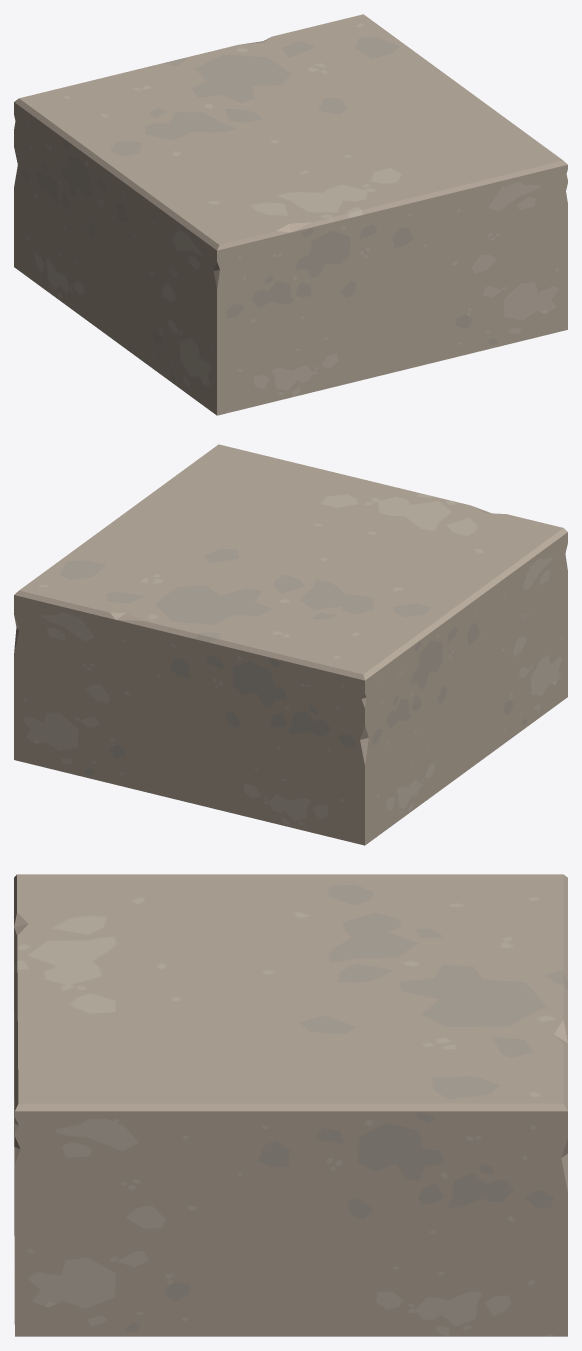
The model's file is SM_Bld_Village_House_Plinth_01.glb.
The picture shows the model from 3 angles, top to bottom: view 1: azimuth 30°, elevation 25°; view 2: azimuth 150°, elevation 25°; view 3: azimuth 270°, elevation 25°; orthographic projection. The views are drawn at different scales.
Visible parts, largest first — view 1: SM_Bld_Village_House_Plinth_01; view 2: SM_Bld_Village_House_Plinth_01; view 3: SM_Bld_Village_House_Plinth_01.
Boxes of the visible parts, x1,y1,x2,y2 form: SM_Bld_Village_House_Plinth_01: (14,14,567,415); SM_Bld_Village_House_Plinth_01: (14,444,567,845); SM_Bld_Village_House_Plinth_01: (14,874,567,1336).
Bounding box in the file's own units: 10.25 × 4.72 × 10.26.
Materials: 1 (1 with a texture image).
